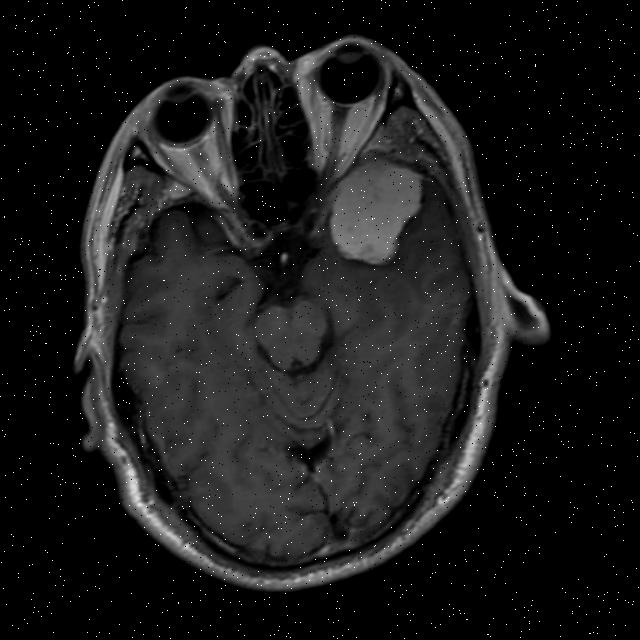Meningioma: (315, 147, 439, 275)
